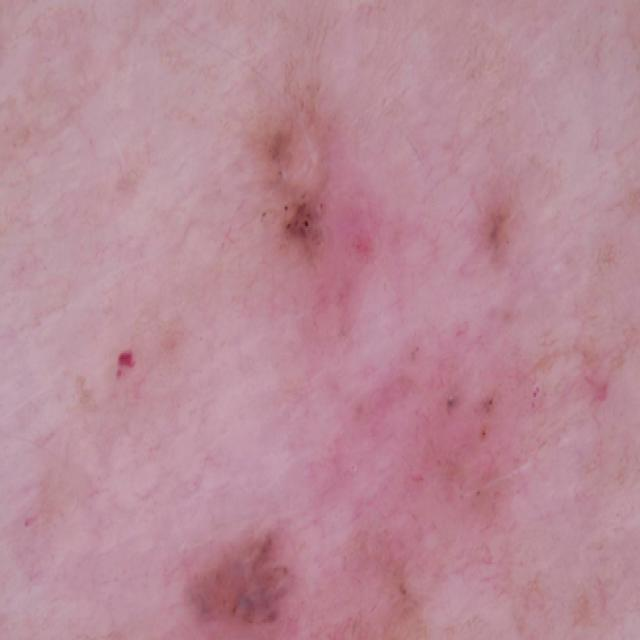Carcinoma: (444, 168, 635, 508), (201, 94, 378, 321), (128, 503, 349, 640)
